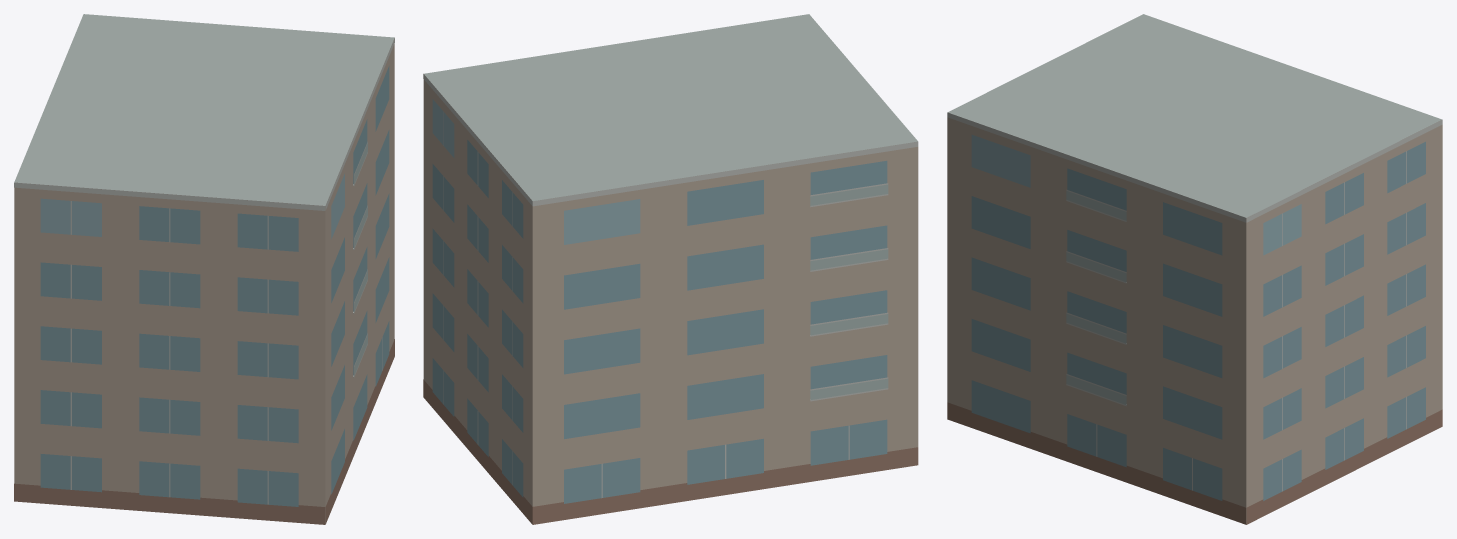
File: survey-upis-32754214.glb
3 views of the same model, side by side, from view 1: azimuth 30°, elevation 25°; view 2: azimuth 150°, elevation 25°; view 3: azimuth 270°, elevation 25° (orthographic). The views are drawn at different scales.
Parts seen in each view (by area): view 1: survey-upis-32754214.tmp; view 2: survey-upis-32754214.tmp; view 3: survey-upis-32754214.tmp.
Part boxes in pixels (box(x1,y1,x2,y2)): survey-upis-32754214.tmp: box(14, 14, 394, 524); survey-upis-32754214.tmp: box(423, 14, 918, 524); survey-upis-32754214.tmp: box(947, 14, 1442, 524).
Size of the model in its own units: 21.73 by 15.25 by 22.3.
